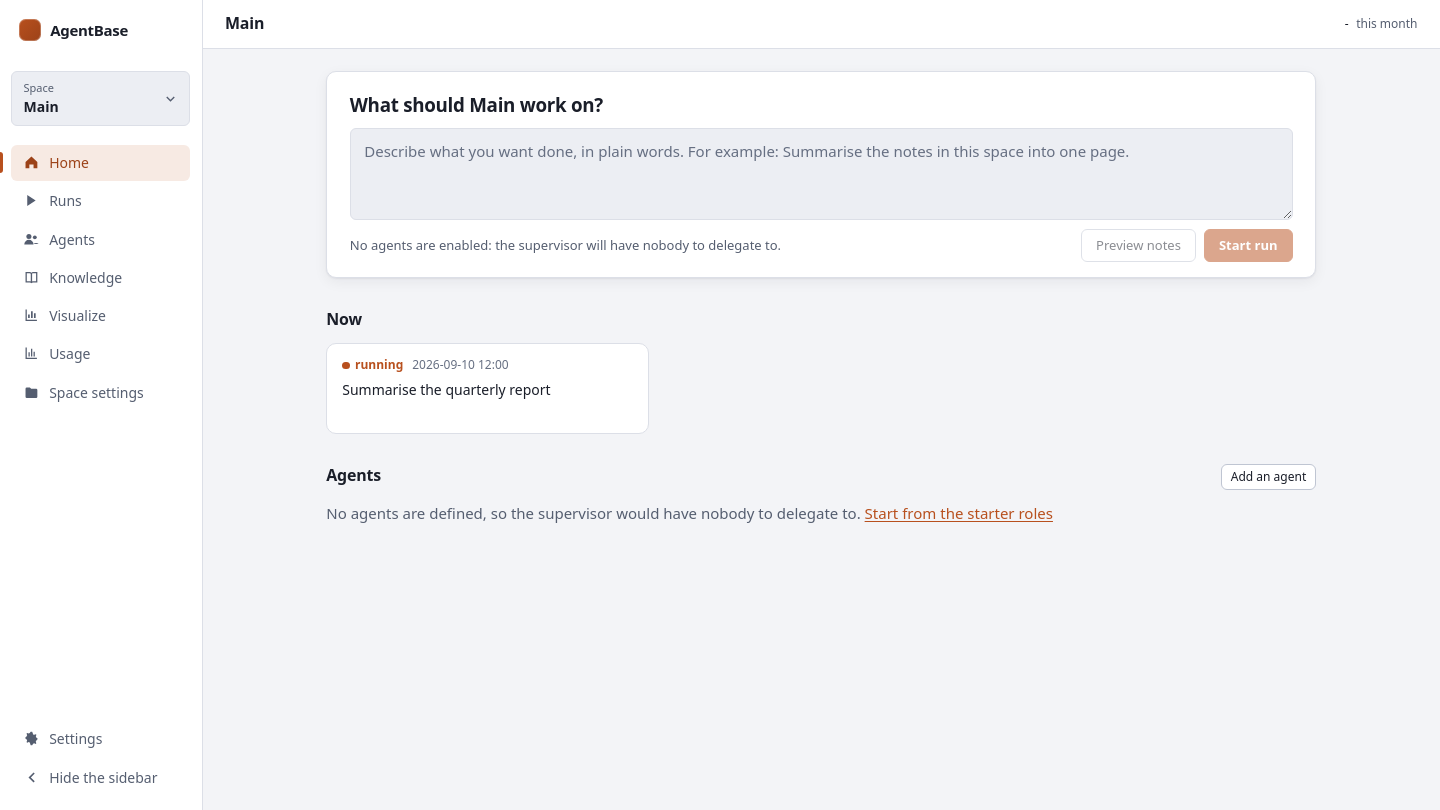
Test: switching sections › keeps the selected run open, and its stream attached, across a visit to the agents section
Click the button with test id "run-card-run-1" at coordinates (488, 388), box [326,343,649,434]
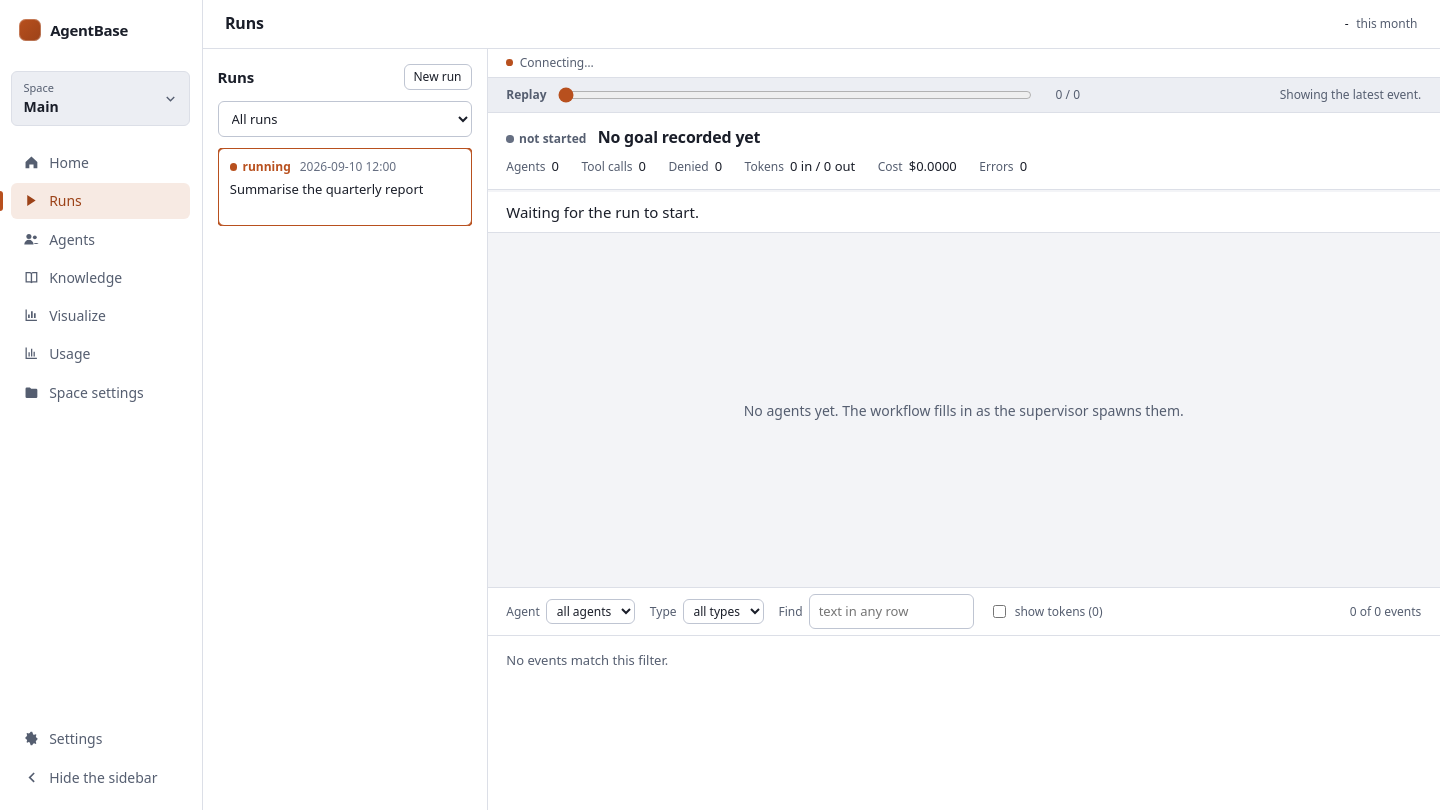
Check: the element with test id "run-panel" is shown, box [488,78,1439,809]
Click the button "Agents" at coordinates (101, 239), box [11,221,190,257]
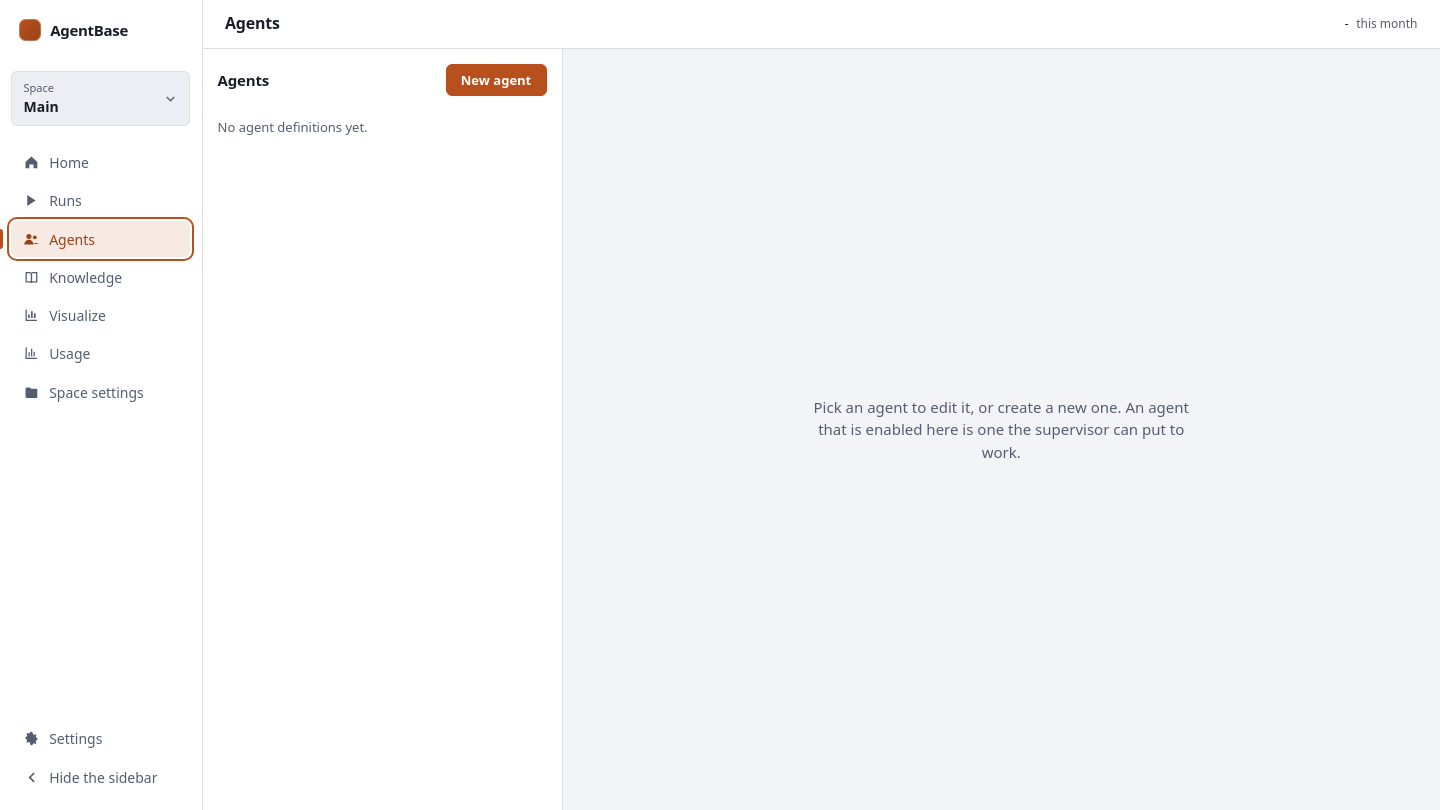
Click the button "Runs" at coordinates (101, 201), box [11,183,190,219]
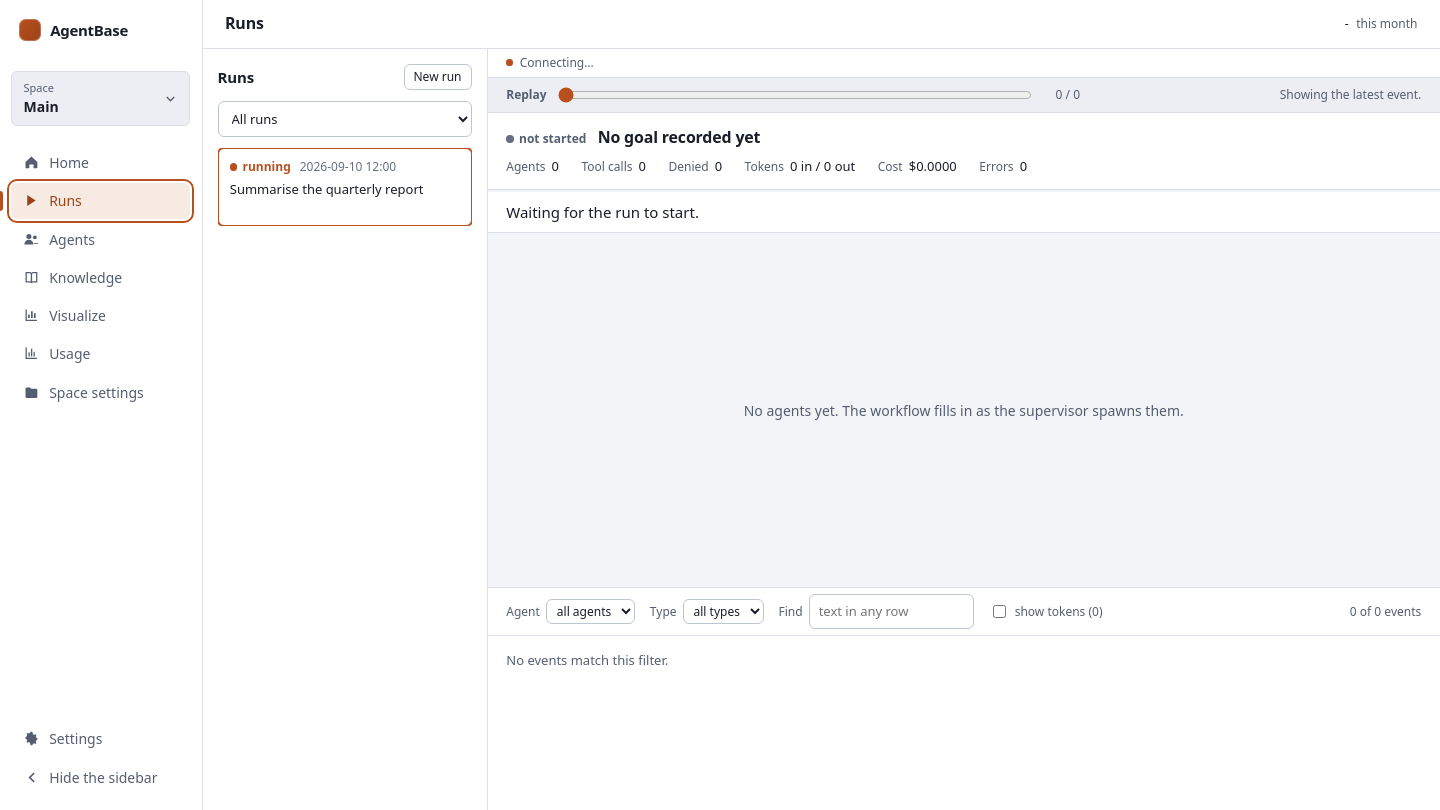
Check: the element with test id "run-panel" is shown, box [488,78,1439,809]
